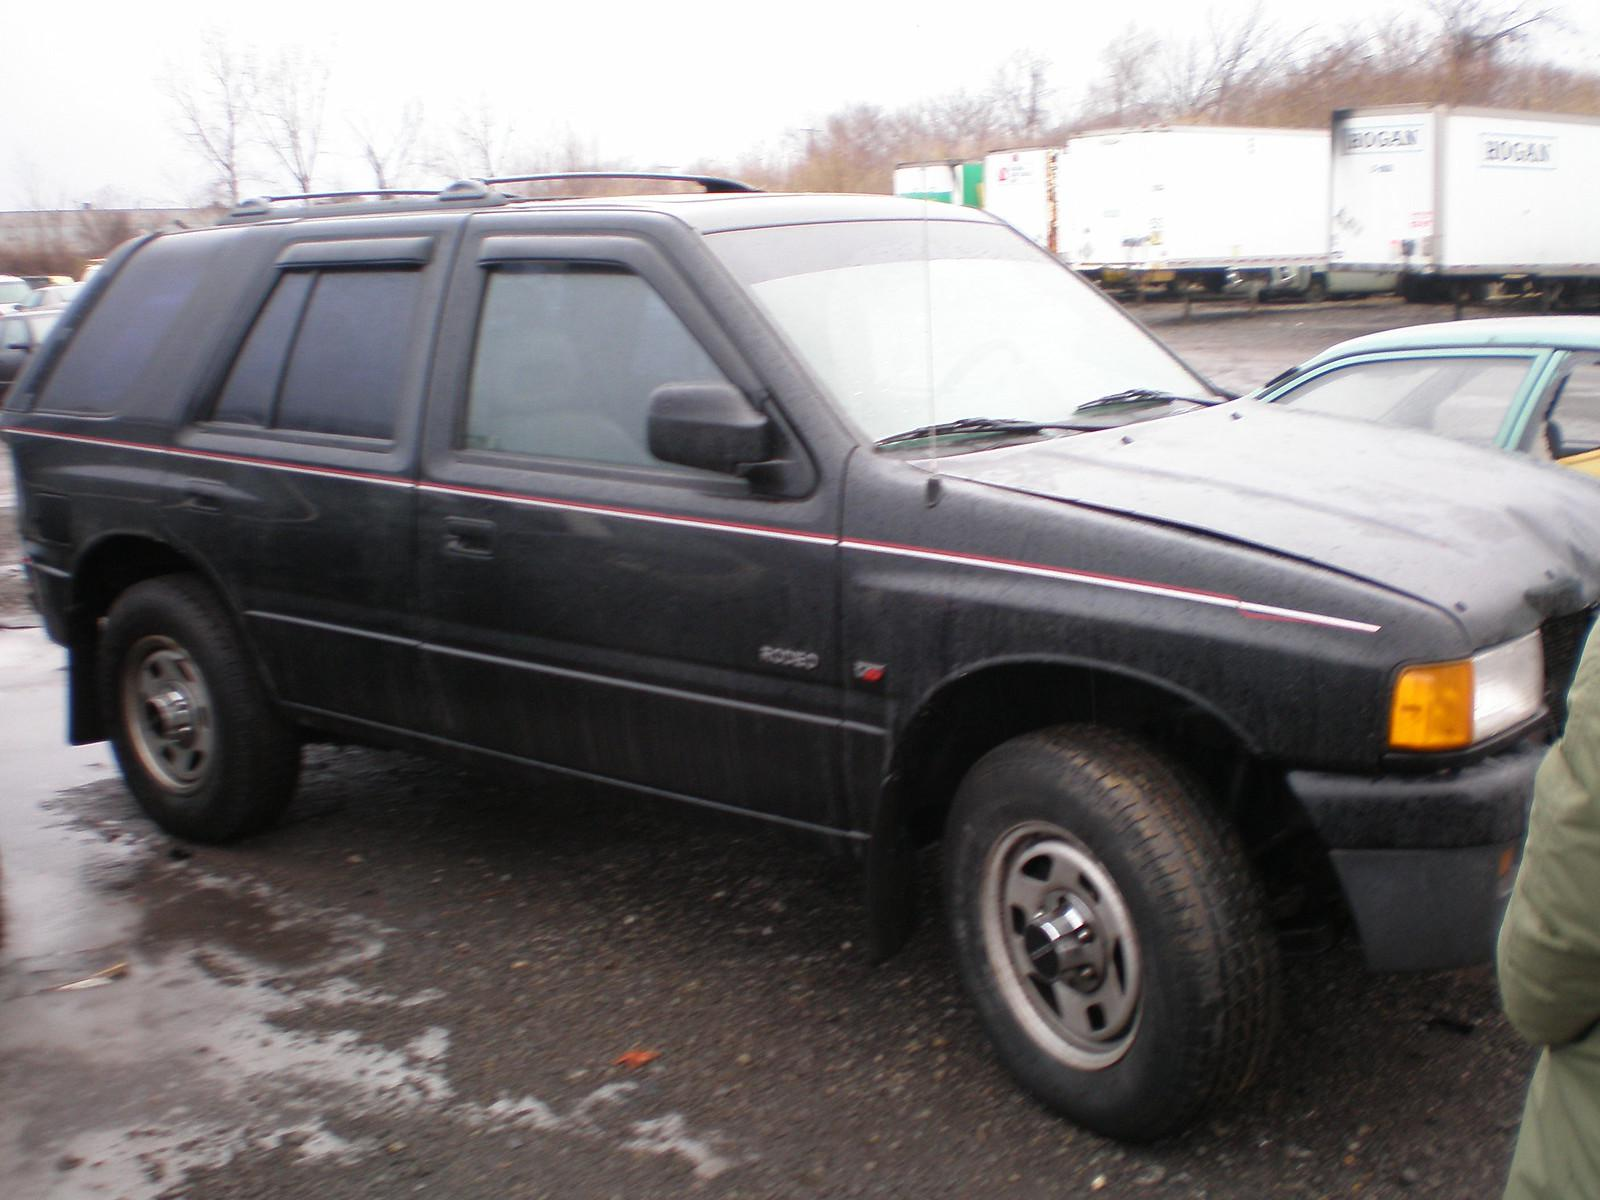bonnet-dent: (978, 433, 1599, 630)
doorouter-dent: (445, 243, 831, 819)
